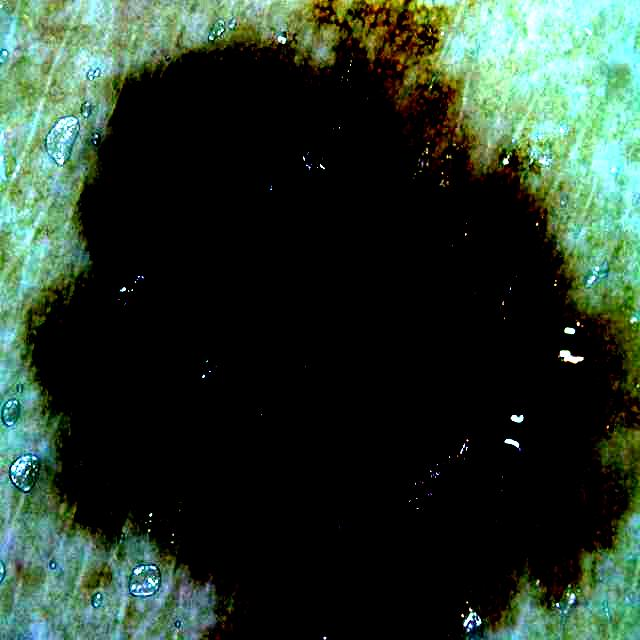MEL: (35, 4, 640, 638)
